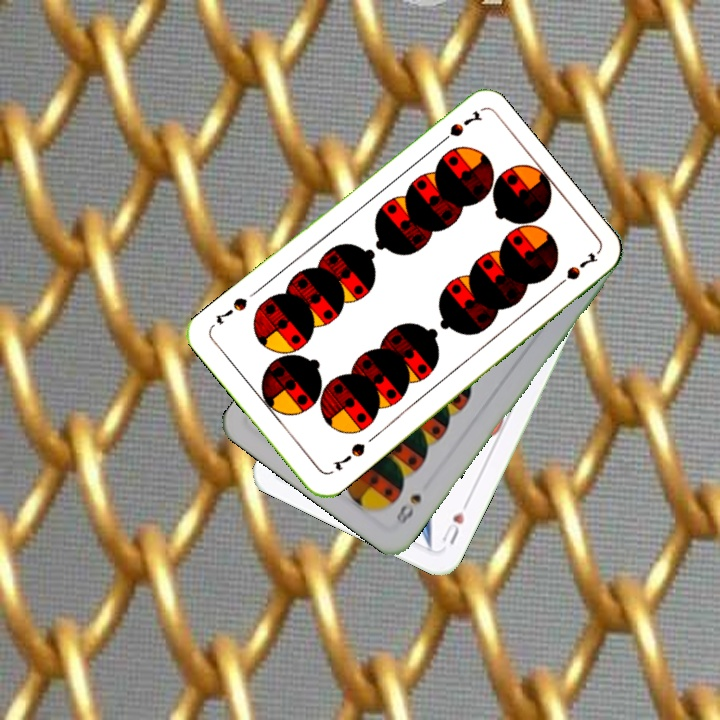HU: (436, 507, 467, 548)
S7: (433, 106, 484, 149), (330, 438, 368, 473)
S8: (391, 489, 425, 528)
